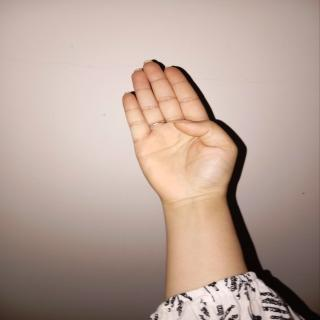KAAF: (110, 46, 253, 216)
